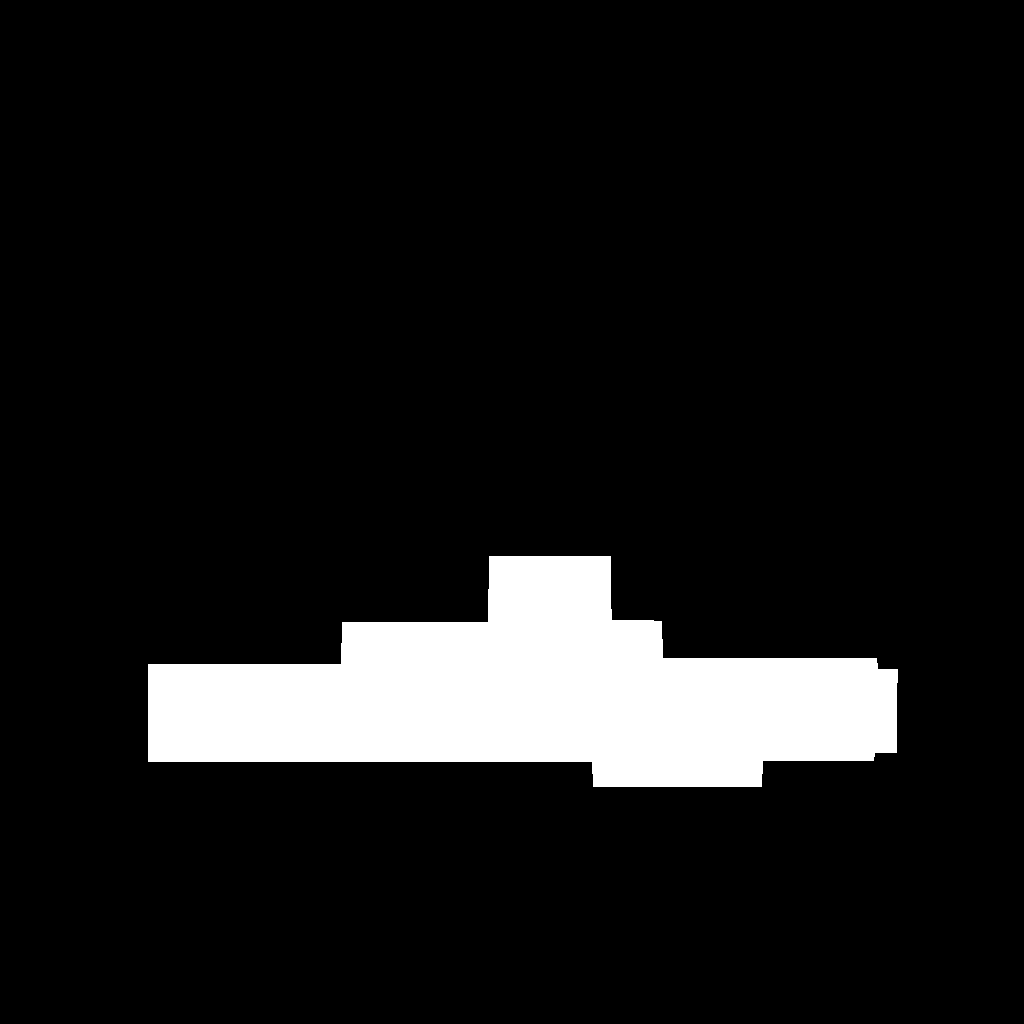building: (148, 556, 898, 787)
